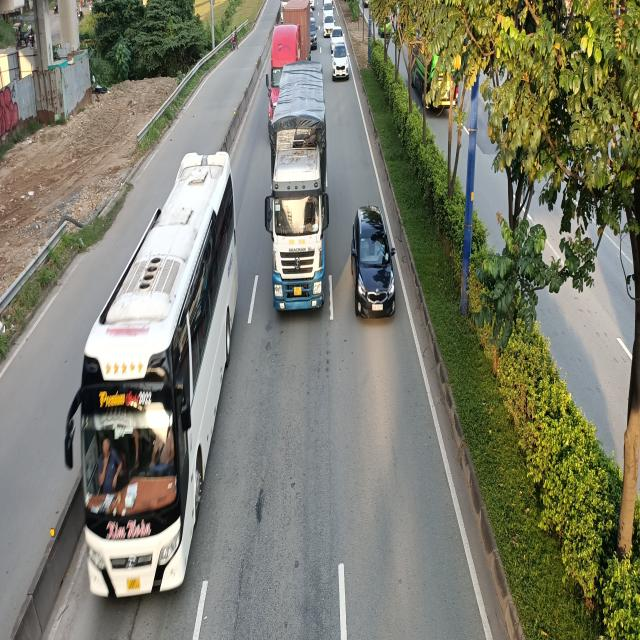car: (350, 208, 396, 320), (332, 45, 350, 78)
coach: (64, 160, 234, 598)
container: (268, 0, 306, 128)
truck: (263, 63, 329, 316)
